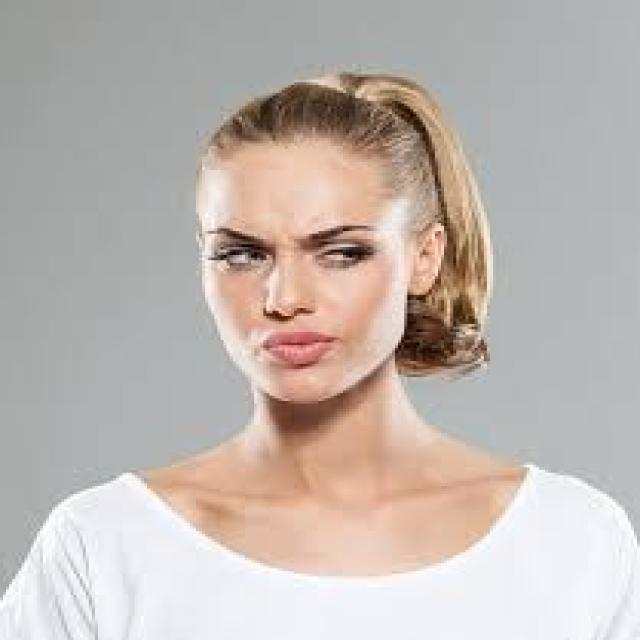angry: (177, 87, 488, 423)
